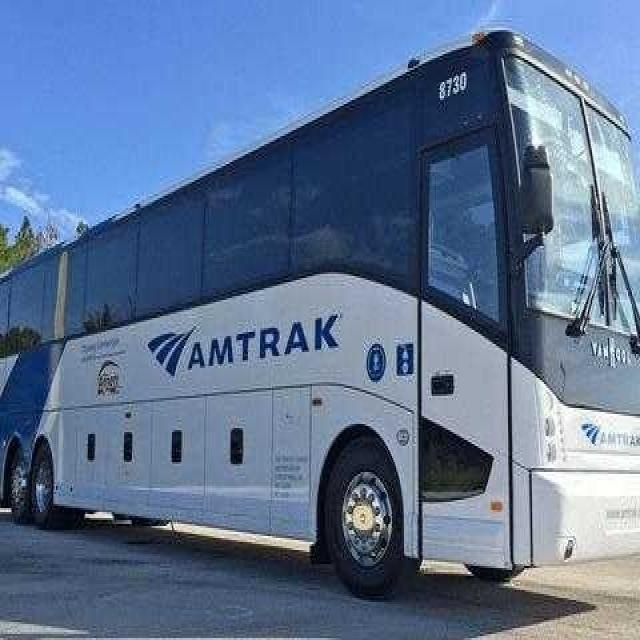Bus: (7, 17, 640, 609)
